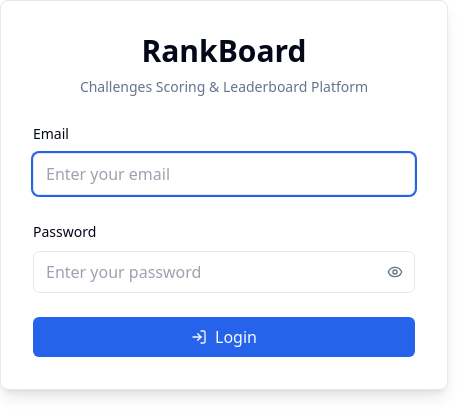
Scenario: LoginForm › disables submit button while loading
The image size is (465, 416).
Step 1. Type "test@example.com" into the field labelled "Email" → (224, 174), box [33,153,415,195]
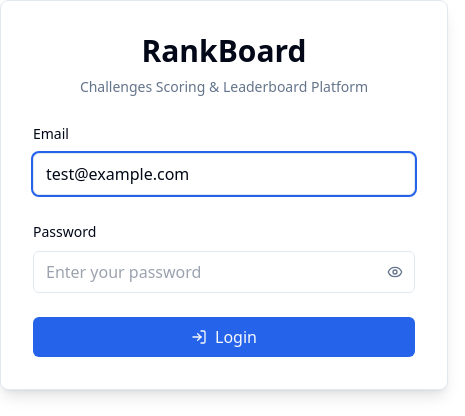
Step 2. Type "password123" into the password field labelled "Password" → (224, 272), box [33,251,415,293]
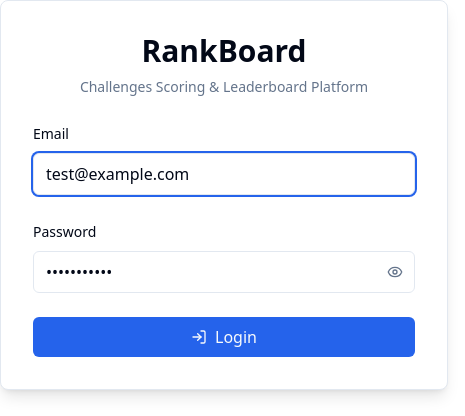
Step 3. Click the button "Login" → click(224, 337), box [33,317,415,357]
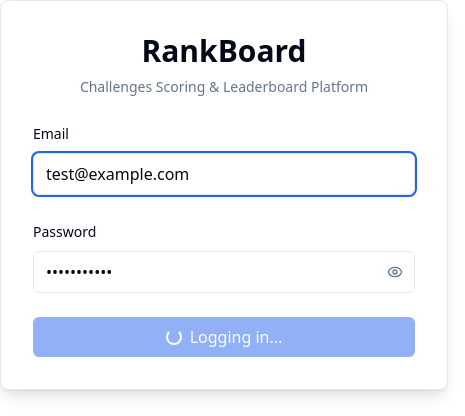
Expected: the button named "login" is disabled, [33,317,415,357]
Expected: the text "Logging in..." is shown, [190,325,282,349]
